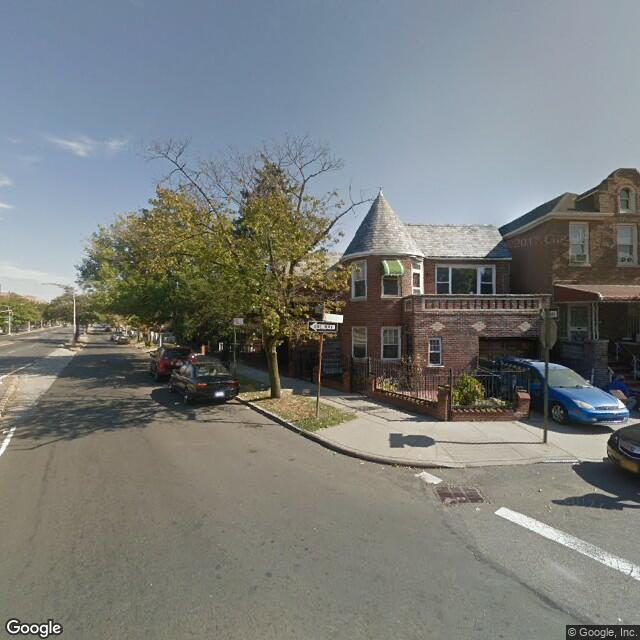litter: (414, 469, 442, 485), (442, 495, 467, 505), (172, 398, 182, 406), (475, 504, 482, 513), (244, 405, 252, 409)
